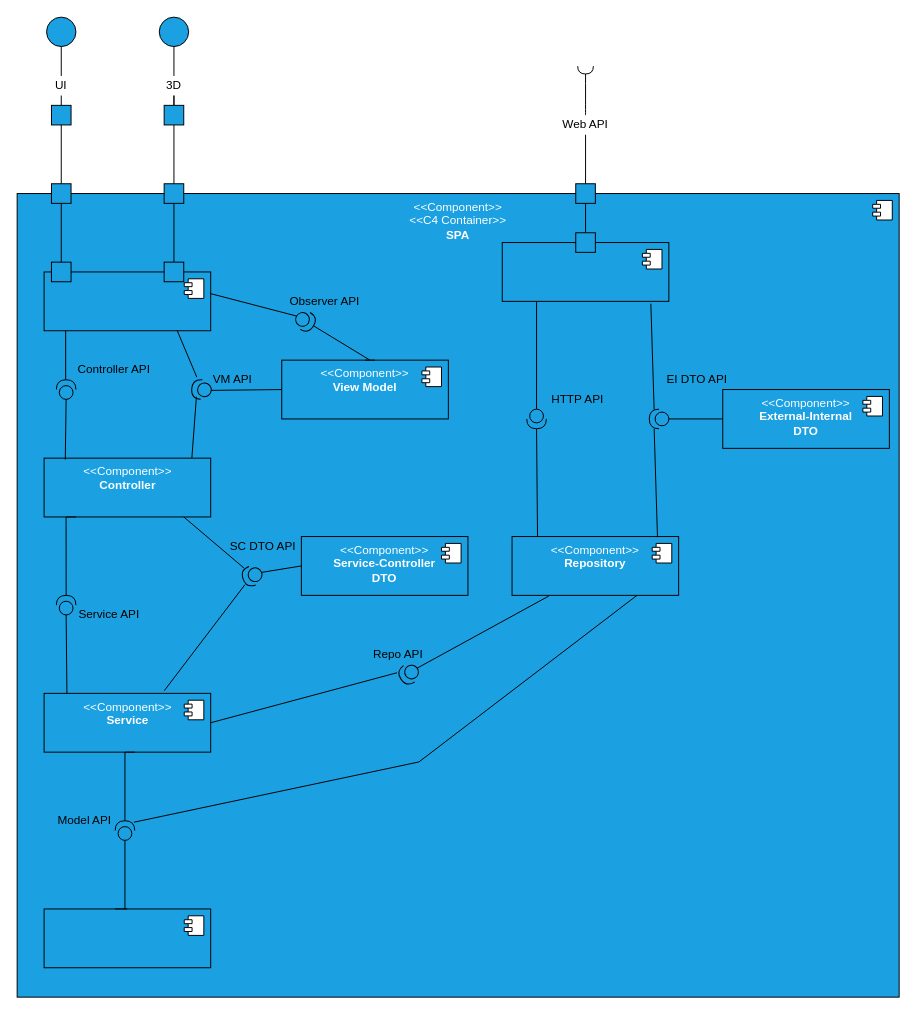
The diagram is 916 pixels wide and 1014 high, and some of its shapes have lost their labels. The box of each missing label's shape, as (x1, y1, x2, y2) in pixels:
<<Component>> HTTP Driver: (501, 242, 669, 301)
<<Component>> Model: (43, 908, 211, 968)
<<Component>> View: (43, 271, 211, 331)
